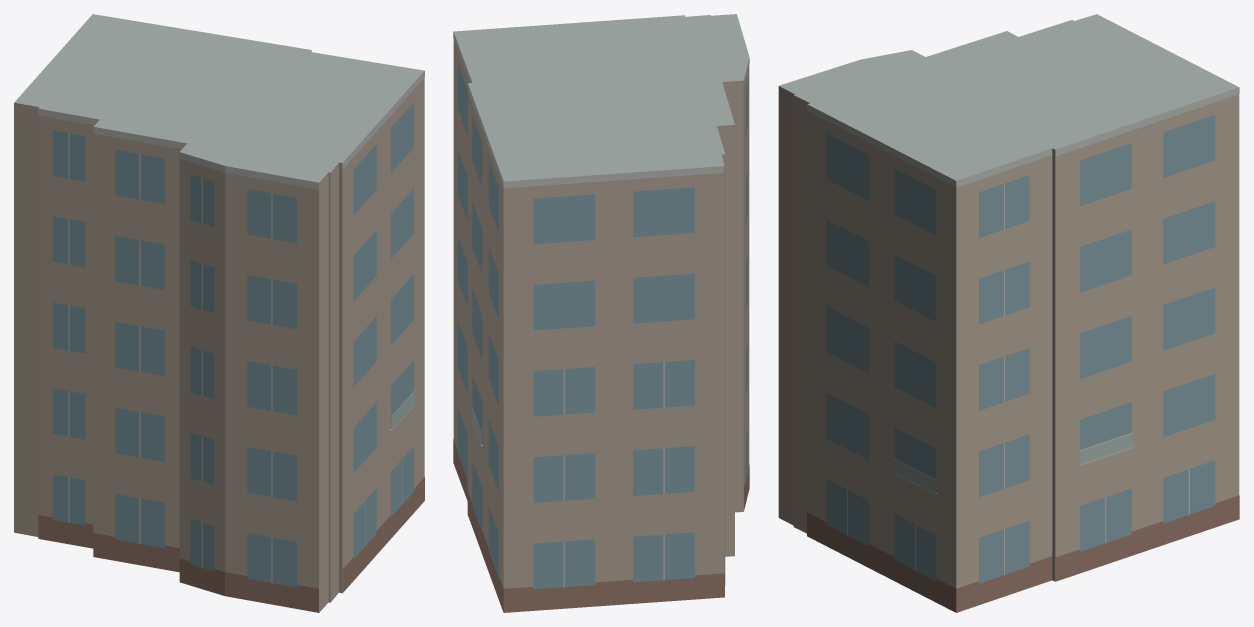
The model's file is survey-upis-32674431.glb.
3 renders of one model, left to right at view 1: azimuth 30°, elevation 25°; view 2: azimuth 150°, elevation 25°; view 3: azimuth 270°, elevation 25°, orthographic.
Visible parts, largest first — view 1: survey-upis-32674431.tmp; view 2: survey-upis-32674431.tmp; view 3: survey-upis-32674431.tmp.
Part boxes in pixels (bbox=[...]): survey-upis-32674431.tmp: bbox=[14, 14, 424, 612]; survey-upis-32674431.tmp: bbox=[453, 14, 749, 612]; survey-upis-32674431.tmp: bbox=[778, 14, 1239, 612].
Size of the model in its own units: 12.77 by 15.4 by 14.9.
